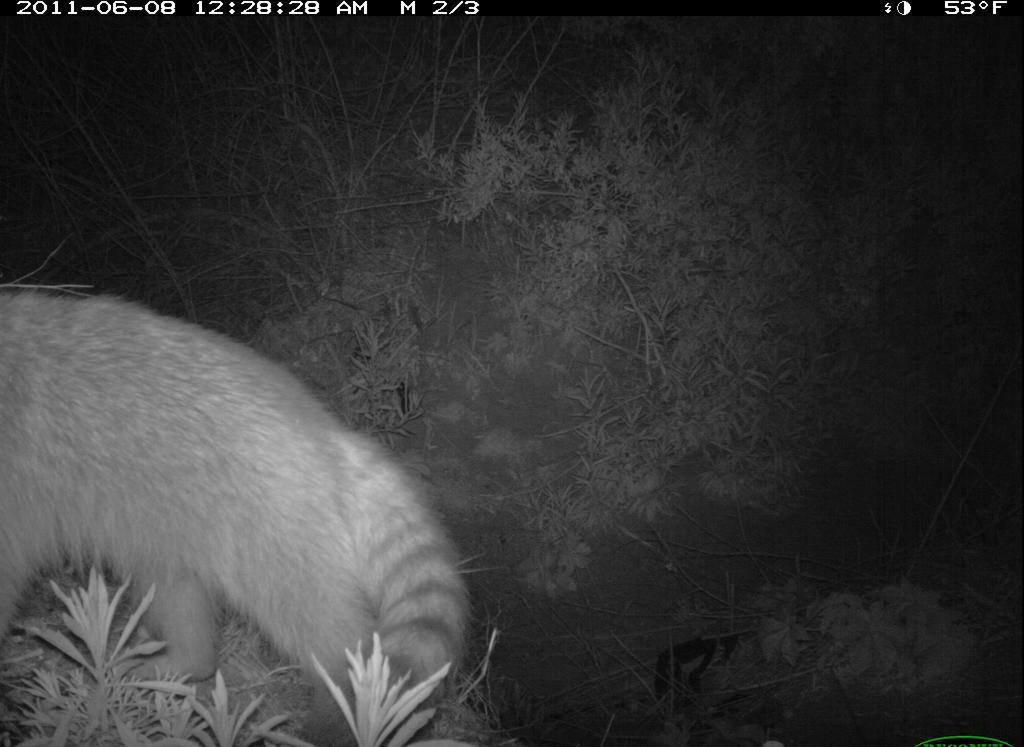raccoon: (1, 272, 475, 747)
